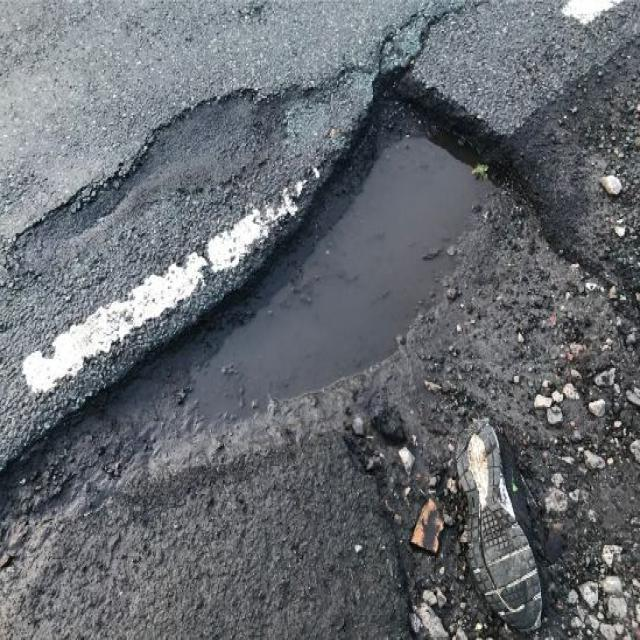Pothole: (2, 61, 545, 513)
